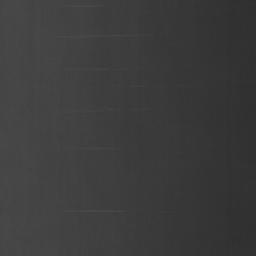Waist folding: (63, 33, 140, 40), (65, 208, 123, 214), (88, 106, 113, 113), (70, 4, 103, 9), (85, 66, 108, 72), (88, 146, 106, 151)
